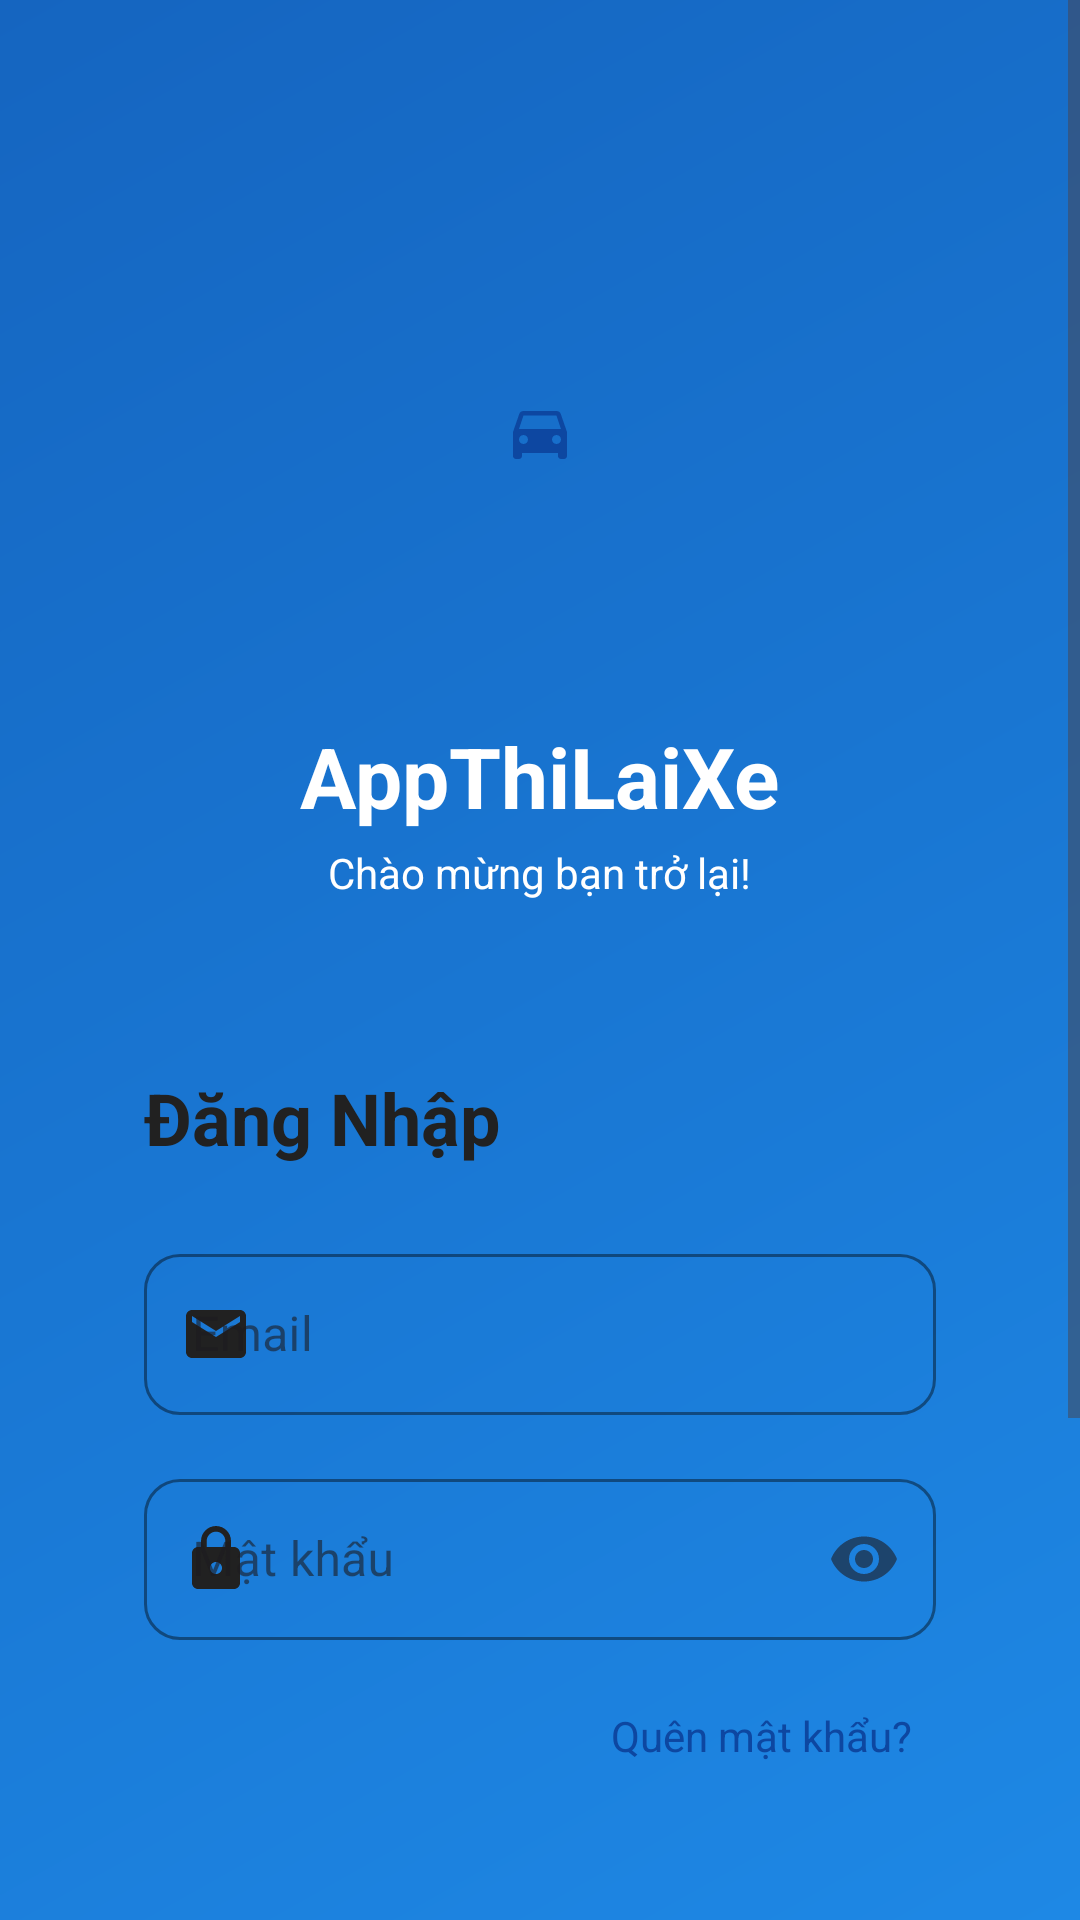

Where icons sit on this 1080×1920 app screen, as {"x1": x1, "y1": y1, "x2": x2, "y2": y2}:
car: {"x1": 513, "y1": 411, "x2": 567, "y2": 459}
